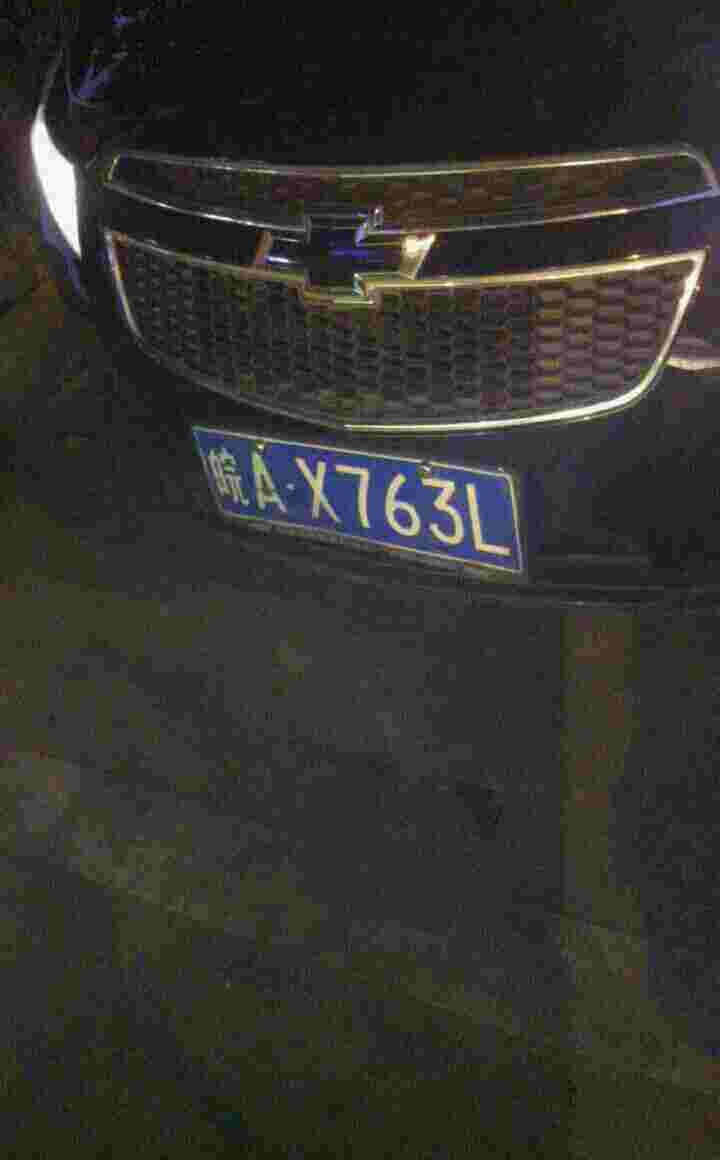license_plate: (199, 422, 523, 562)
